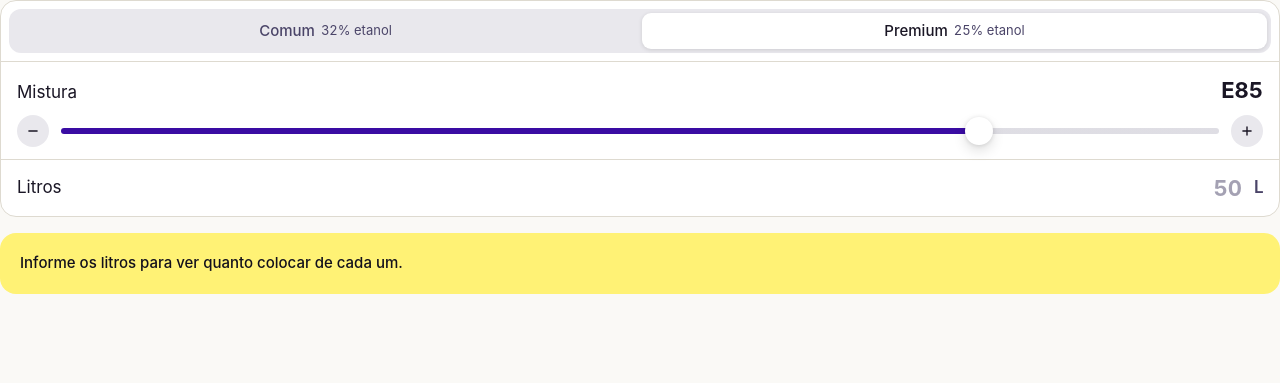
Test: Calculator › resultado em litros inteiros, com a mistura real quando o arredondamento desloca
Click the radio button labelled "Comum 32% etanol" at (326, 30), box [259,21,392,40]
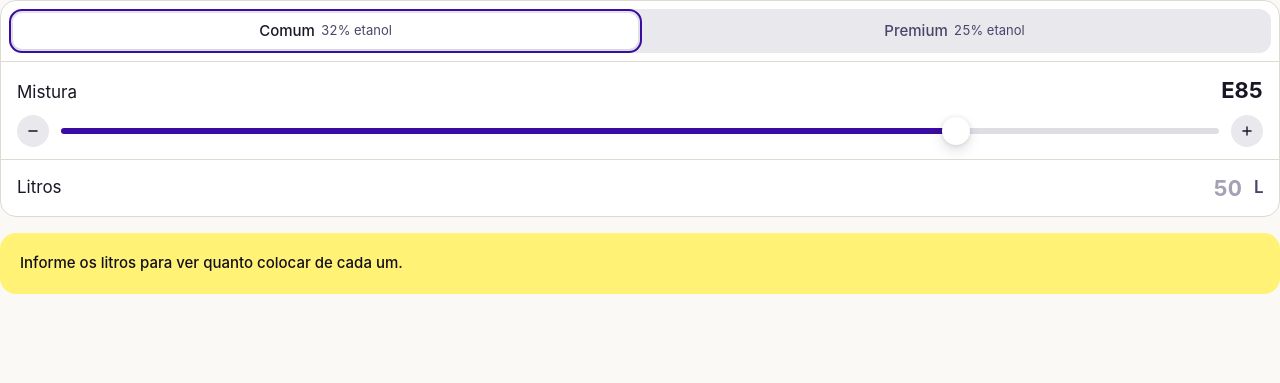
Set the slider labelled "Mistura" to "50" at (371, 131), box [61,117,1219,145]
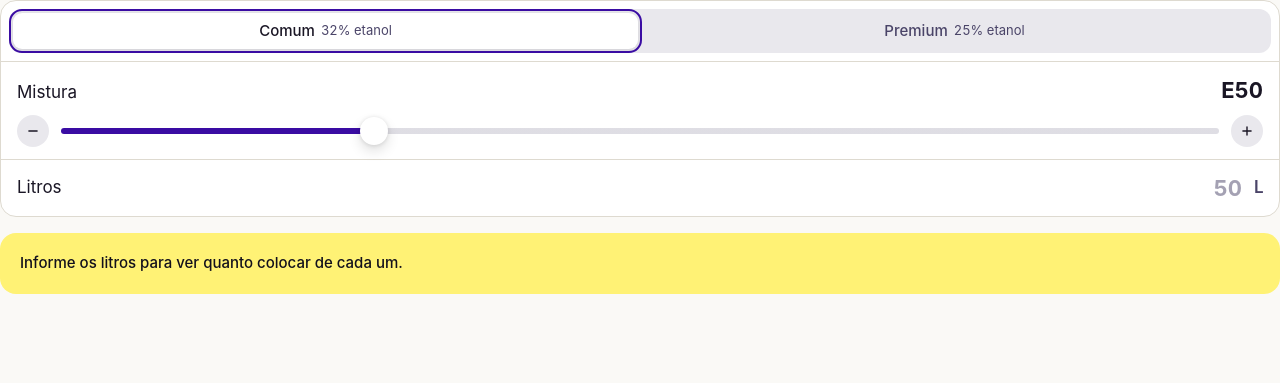
Type "40" into the field named "Total de litros que vão entrar no tanque" at (658, 188), box [74,172,1242,204]
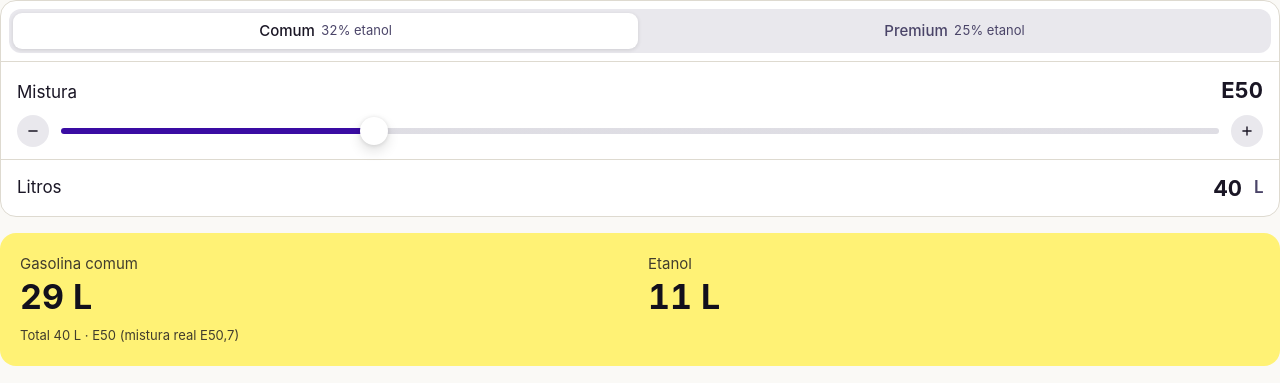
Expected: the text "29 L" is shown, [20,276,92,316]
Expected: the text "11 L" is shown, [648,276,720,316]
Expected: the text "Total 40 L · E50 (mistura real E50,7)" is shown, [20,327,239,343]
